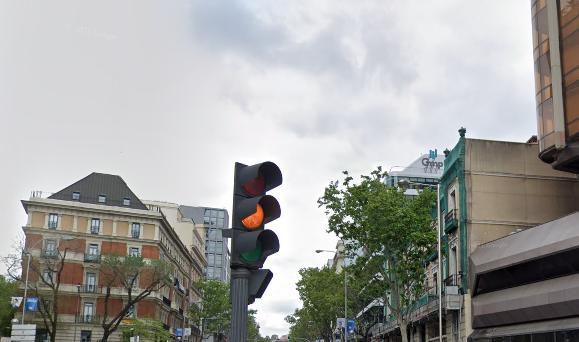yellow_light: (230, 161, 282, 270)
